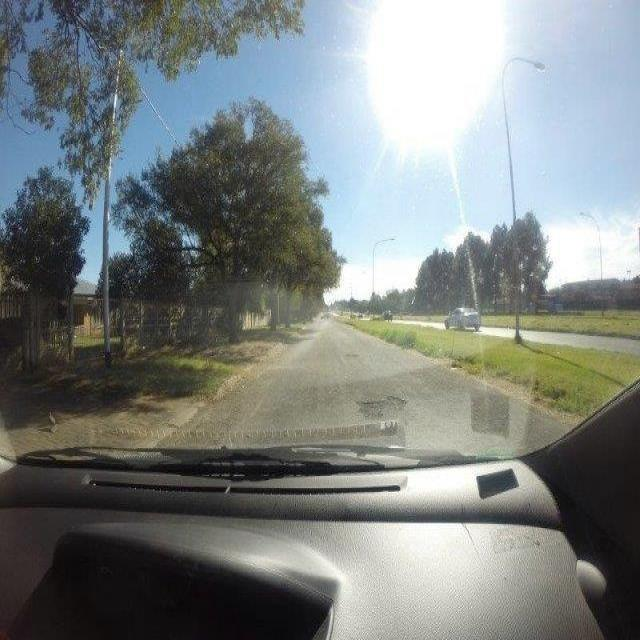lubang: (352, 391, 407, 417), (342, 348, 362, 360)
